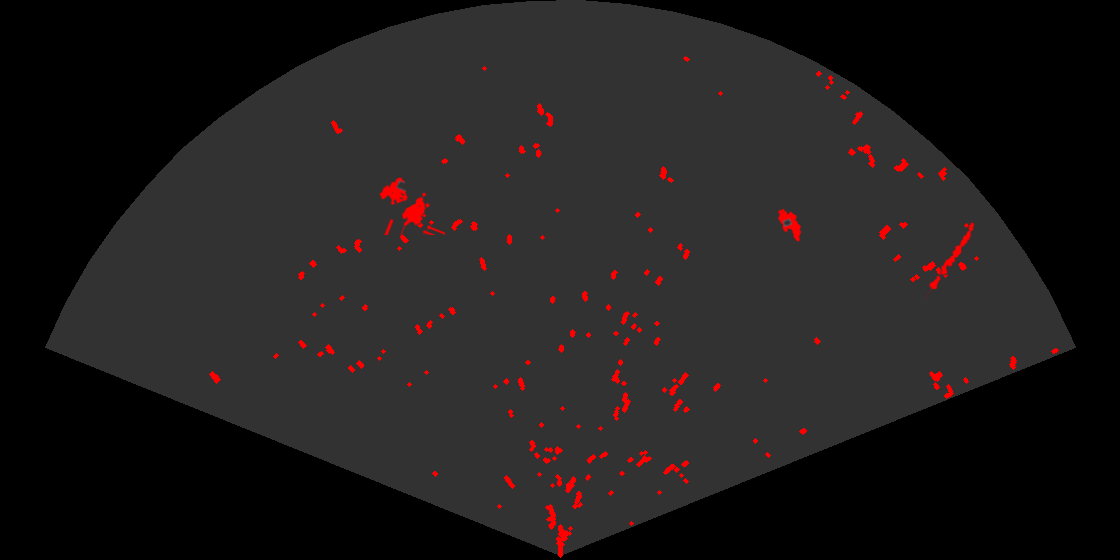AUV: (776, 207, 803, 244)
cage: (378, 176, 445, 235)
chain: (923, 221, 976, 299)
